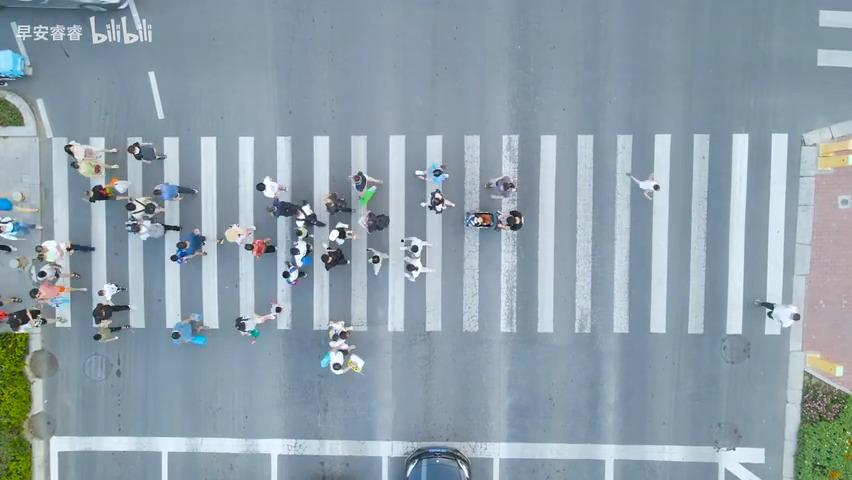Civilian: (319, 319, 365, 376), (63, 139, 118, 169), (91, 302, 131, 342), (399, 236, 433, 281), (124, 215, 182, 240), (169, 227, 207, 264), (34, 239, 95, 262), (753, 299, 800, 328), (234, 312, 276, 344), (28, 280, 87, 302), (84, 176, 130, 203), (170, 312, 206, 345), (0, 215, 43, 240), (4, 307, 46, 332), (347, 170, 383, 199), (625, 171, 660, 200), (295, 190, 321, 228), (124, 195, 164, 219), (420, 188, 455, 214), (126, 141, 167, 163), (0, 191, 39, 214), (152, 182, 198, 201), (266, 197, 307, 218), (414, 161, 449, 185), (222, 222, 256, 246), (327, 221, 357, 247), (255, 175, 287, 199), (358, 210, 389, 234), (92, 323, 131, 342), (244, 237, 277, 259), (97, 281, 127, 305), (320, 247, 350, 271), (323, 192, 355, 214), (400, 236, 432, 258), (281, 260, 307, 286), (494, 209, 524, 231), (365, 247, 388, 275), (484, 175, 516, 194), (288, 222, 323, 239), (265, 299, 292, 321), (463, 210, 495, 227), (285, 242, 311, 258)
